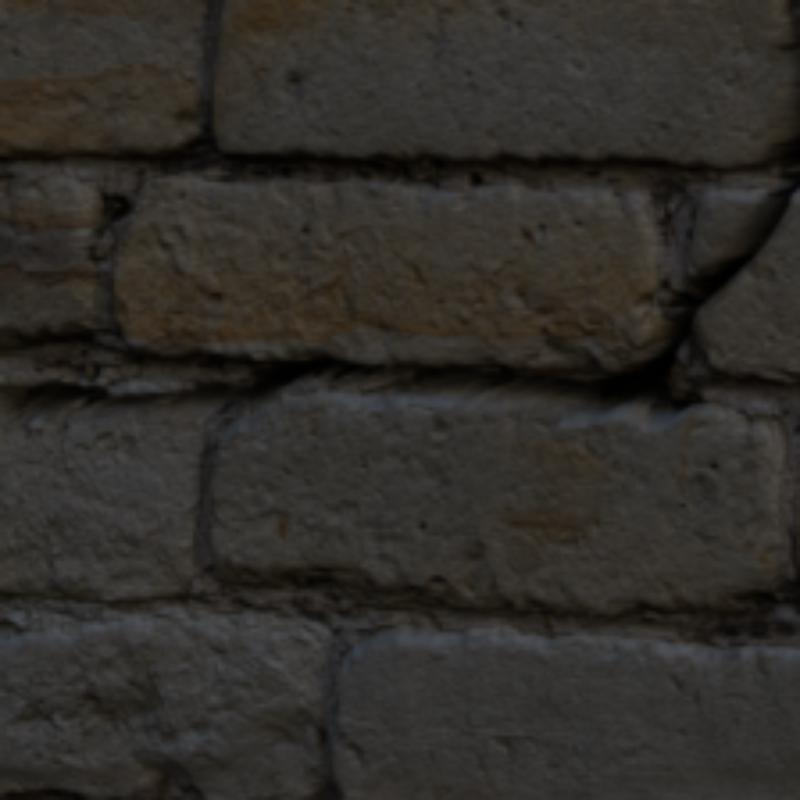pothole: (0, 136, 796, 414), (0, 325, 250, 368), (786, 0, 796, 39), (771, 39, 796, 46), (793, 100, 796, 125)
